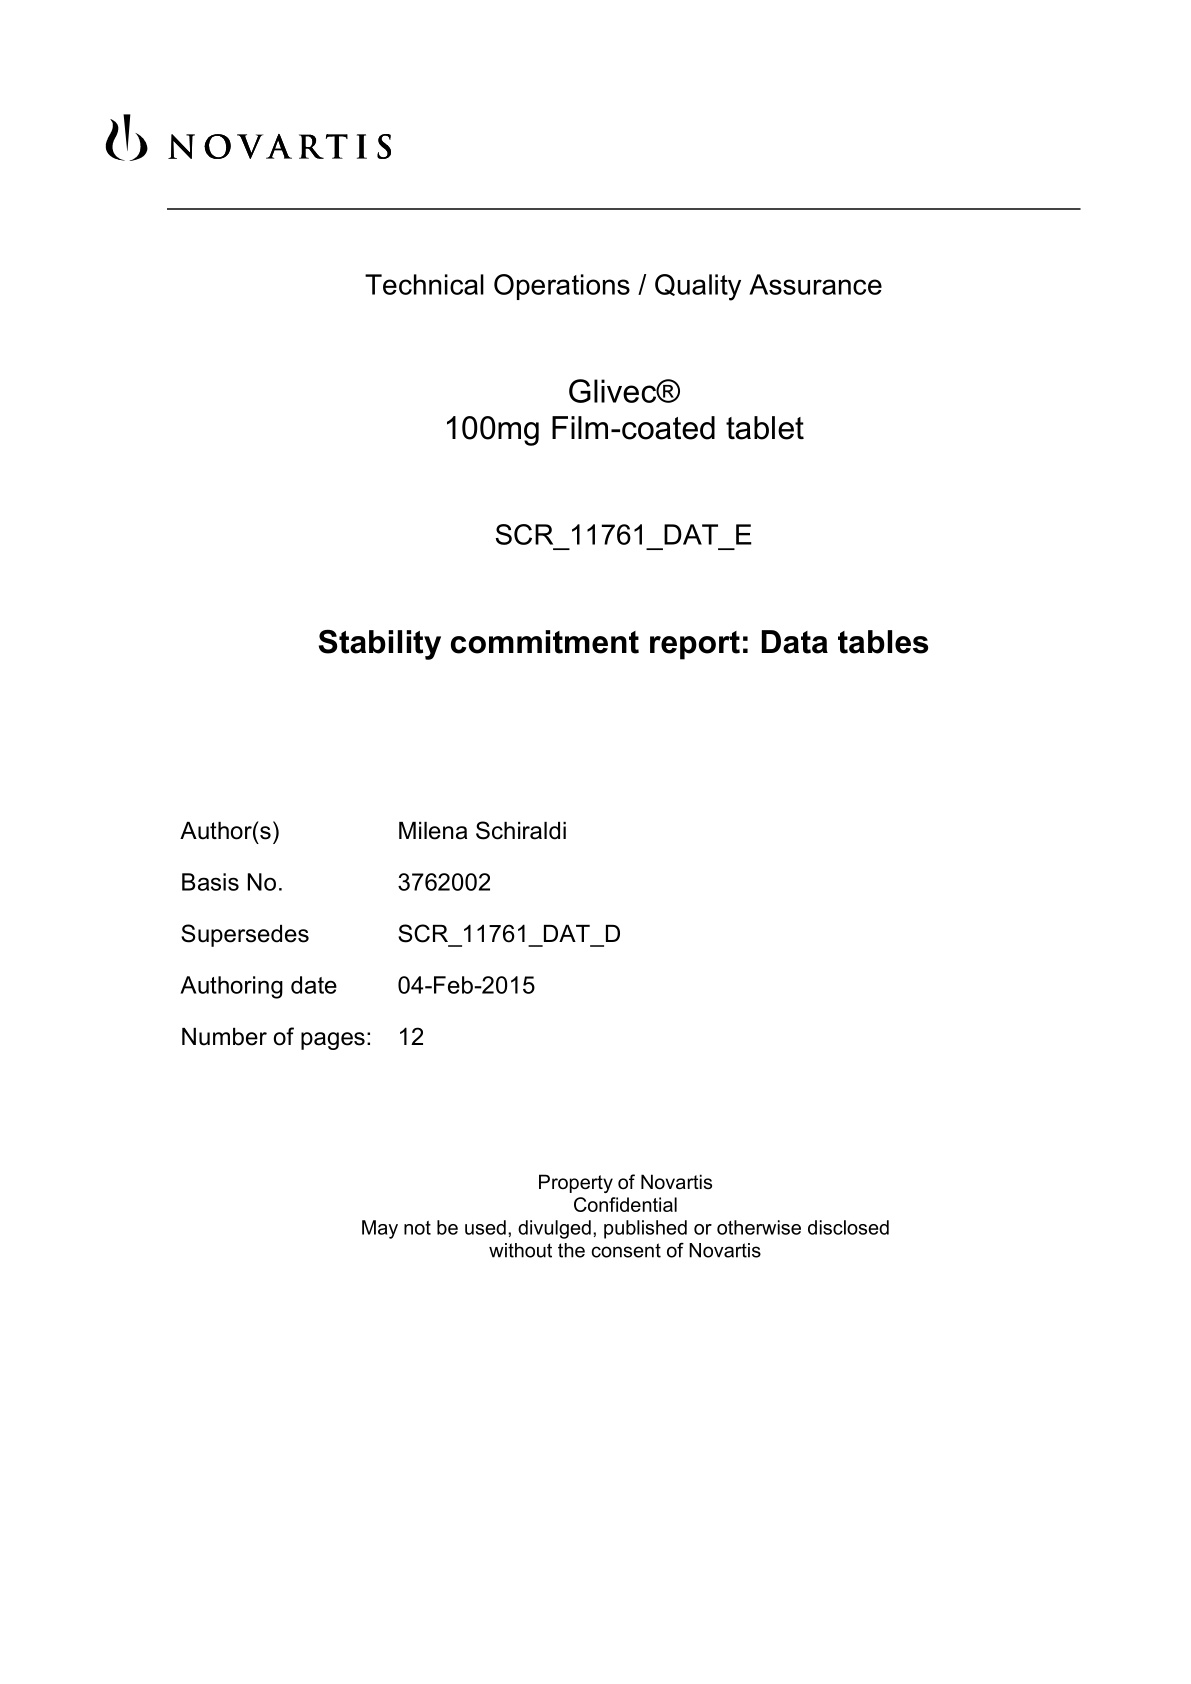nolines: (177, 817, 626, 1051)
